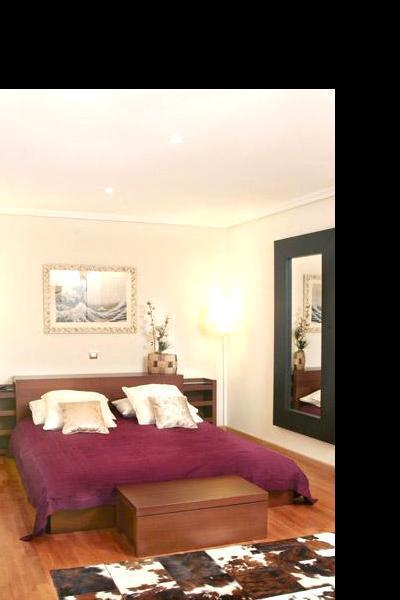Armario: (112, 475, 274, 549)
